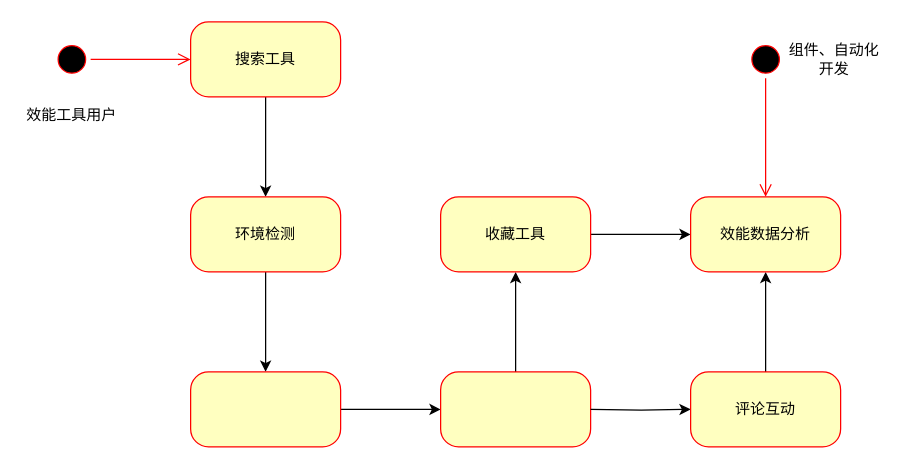
This 905x469 diagram has some shape labels left out. The centre of each missing label's shape, as x and y in pixels:
"工具执行" goes at point 265,409.
"执行结果分析" goes at point 515,409.
